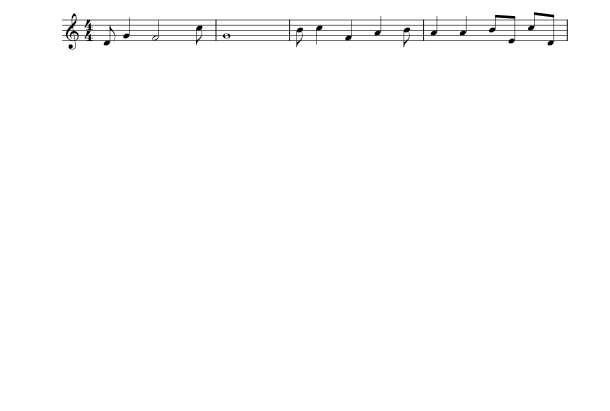Treble Clef: (62, 5, 83, 53)
